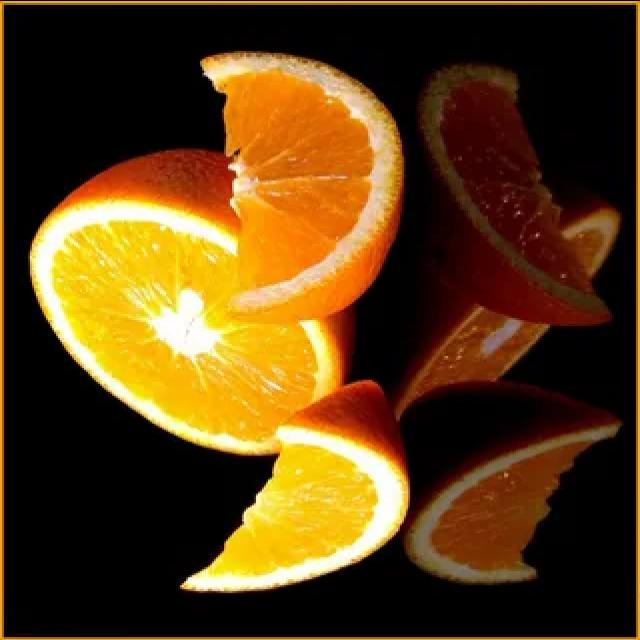orange: (11, 154, 389, 450)
